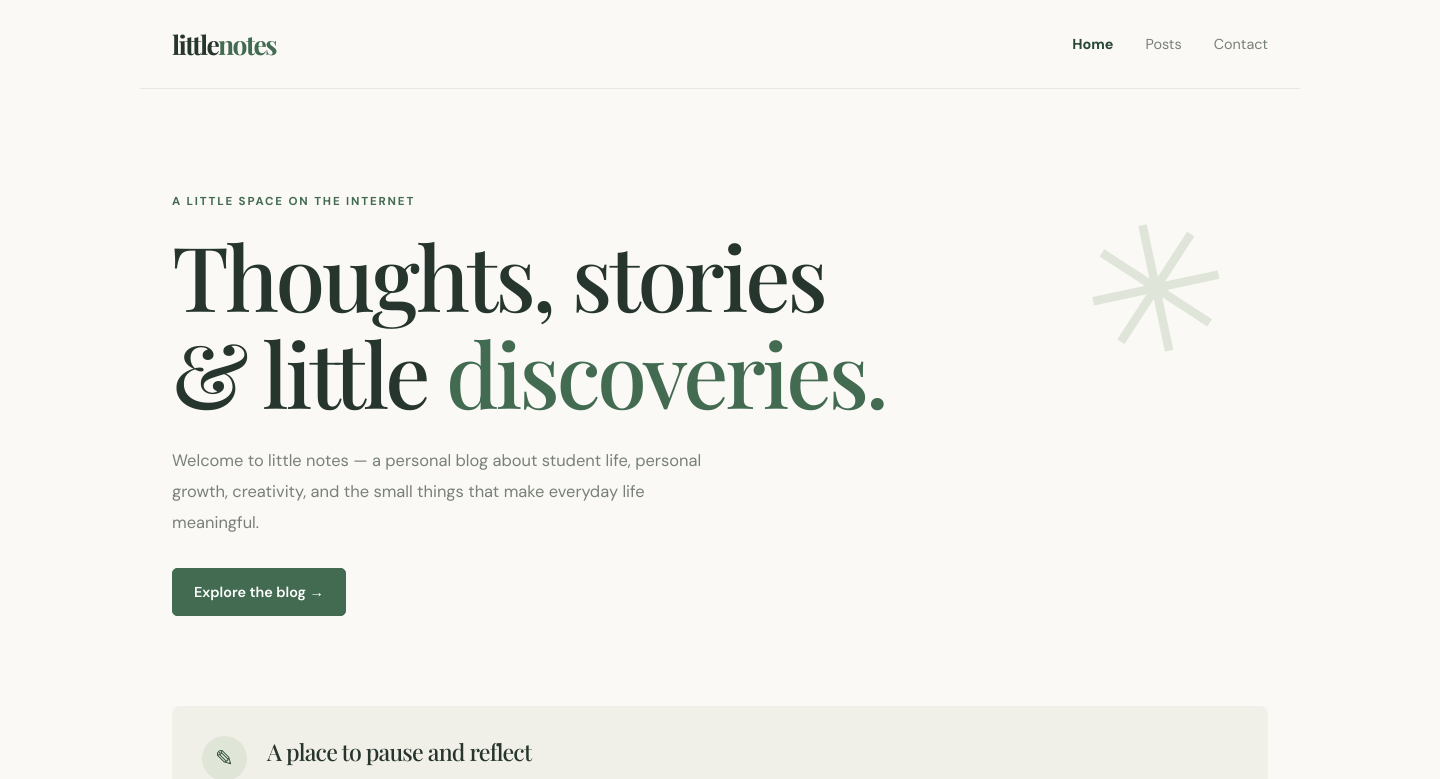
Test: Blog application › navigates from Home to Posts without a full page reload
Expected: the heading "Thoughts, stories& little discoveries." is shown, 172,227 -> 912,420
Click the link "Posts". click: (1164, 44)
box: 1146,35 -> 1182,53
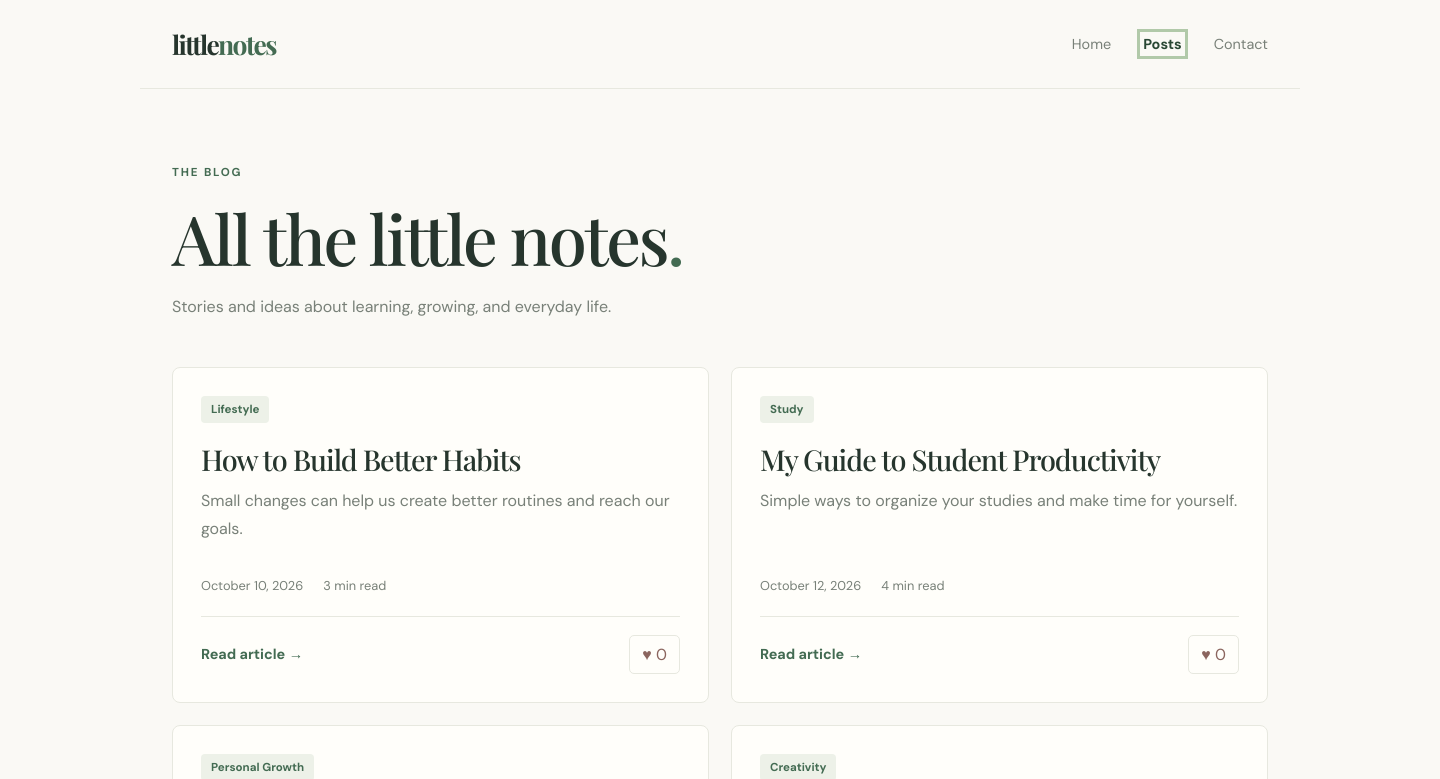
Now the heading "All the little notes." is shown, box 172,192 -> 683,283
